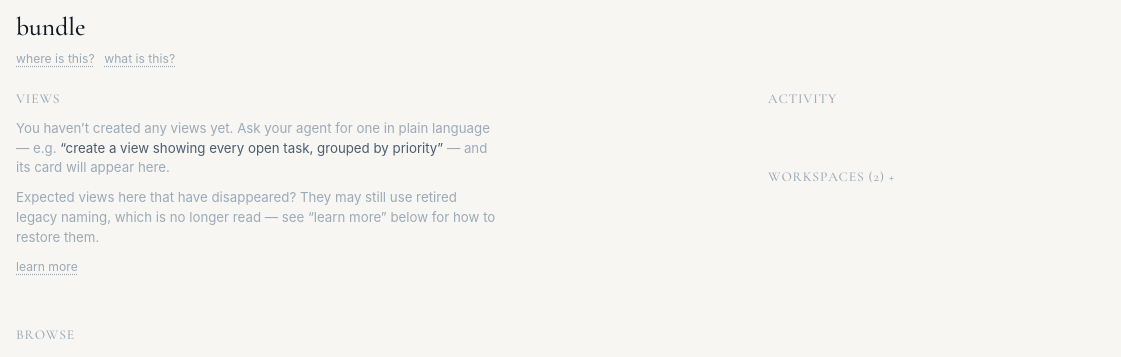
Test: home surface › workspaces block is COLLAPSED by default; expanding reveals rows, then per-row paths
The image size is (1121, 357).
Step 1. Click the button with class "workspaces-toggle" → (832, 177), box 768,167 -> 895,187
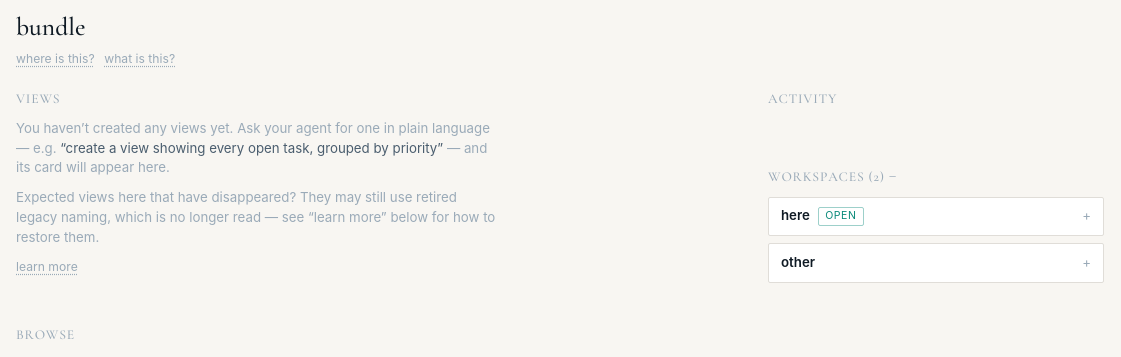
Check: the text "/tmp/other" is not shown
Check: the number of list items with class "workspace" is 2, box 768,197 -> 1104,236; 768,243 -> 1104,283
Step 2. Click the button with class "workspace-row" showing "other +" → (798, 262), box 781,253 -> 1091,273
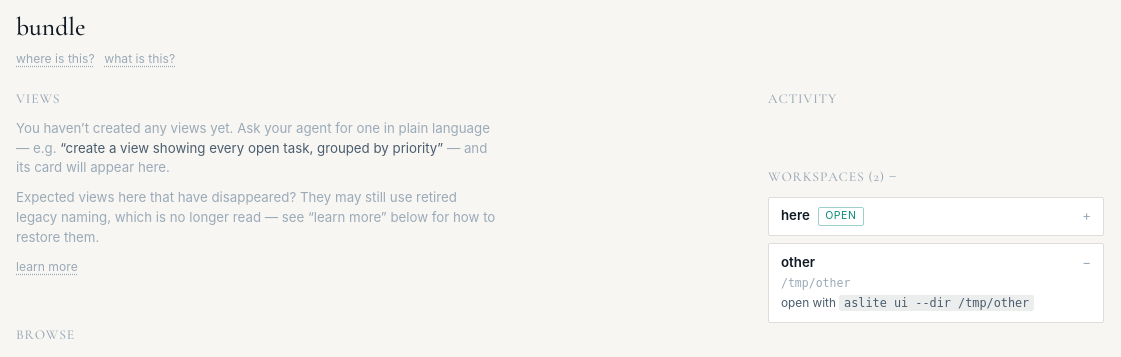
Check: the text "/tmp/other" is shown, box 781,276 -> 850,290
Check: the text "aslite ui --dir /tmp/other" is shown, box 839,295 -> 1034,311
